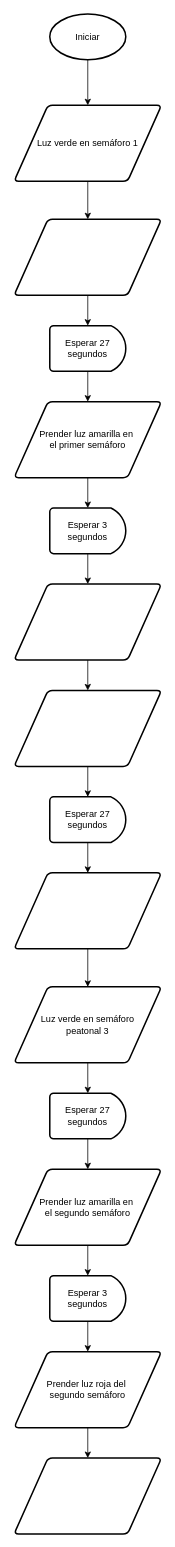
Some shapes in this 175 by 1547 pixel diagram are drawn without their labels. Each missing label, with the centre of its shape:
"Luz verde en semáforo 2" belongs at (87,910).
"Luz verde en semáforo peatonal 2" belongs at (87,257).
"Prender luz roja del primer semáforo" belongs at (87,621).
"Prender luz roja en el segundo semáforo" belongs at (87,728).
"Prender luz roja en el tercer semáforo" belongs at (87,1495).
